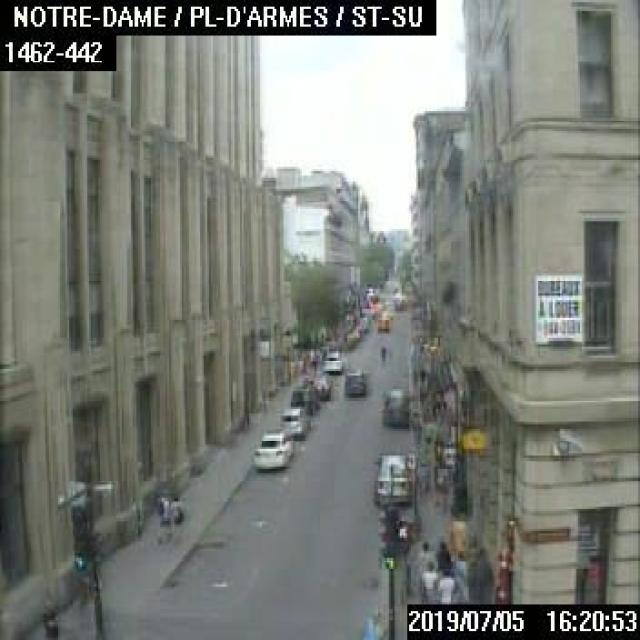pedestrian: (154, 486, 168, 540), (418, 560, 436, 601), (169, 492, 183, 540), (437, 567, 452, 603), (434, 540, 450, 572), (417, 540, 434, 562), (379, 344, 384, 362)
vehicle: (249, 430, 290, 473), (375, 449, 409, 500), (380, 387, 405, 429), (277, 406, 308, 439), (288, 384, 319, 416), (304, 373, 332, 399), (342, 369, 364, 395), (321, 350, 341, 371)
